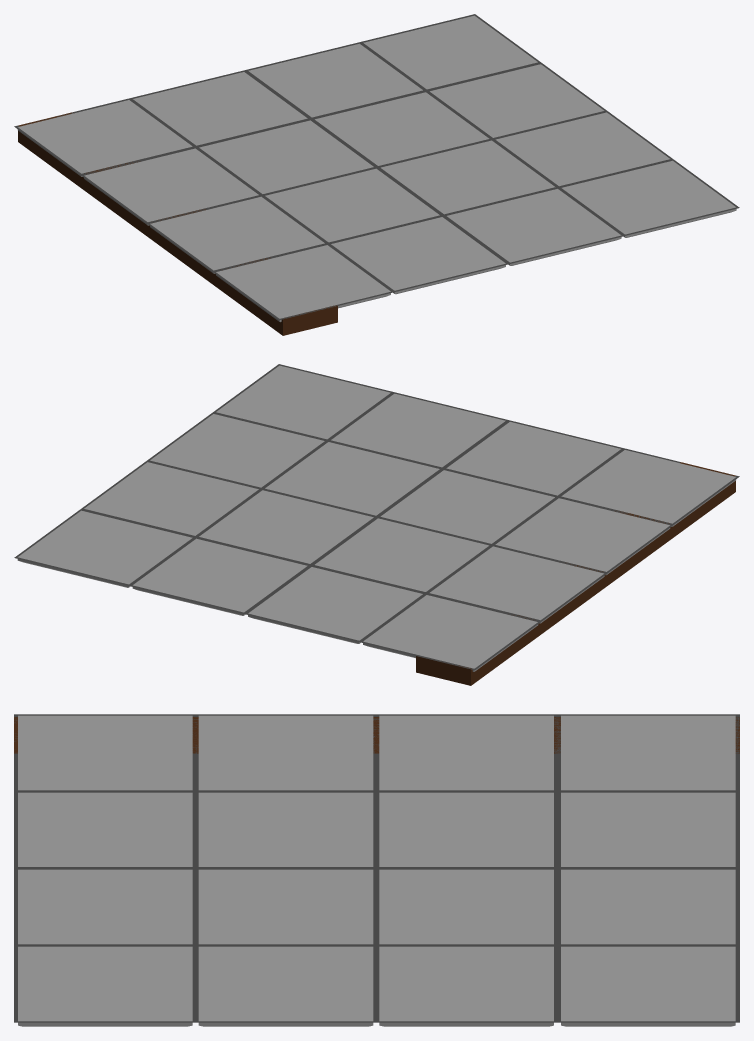
File: StoneTilesCeilling.fbx
3 views of the same model, one above another, from view 1: azimuth 30°, elevation 25°; view 2: azimuth 150°, elevation 25°; view 3: azimuth 270°, elevation 25° (orthographic). The views are drawn at different scales.
Parts seen in each view (by area): view 1: Plane.023, Cube.438, Cube.430, Cube.435, Cube.427, Cube.428, Cube.425, Cube.426, Cube.440, Cube.429, Cube.433, Cube.431 (+6 smaller); view 2: Plane.023, Cube.440, Cube.433, Cube.432, Cube.425, Cube.427, Cube.426, Cube.428, Cube.438, Cube.439, Cube.436, Cube.431 (+6 smaller); view 3: Plane.023, Cube.436, Cube.435, Cube.434, Cube.433, Cube.437, Cube.428, Cube.440, Cube.439, Cube.438, Cube.427, Cube.426 (+6 smaller).
Boxes of the visible parts, left/top/right/bottom form: Plane.023: left=14, top=14, right=739, bottom=320; Cube.438: left=447, top=189, right=621, bottom=265; Cube.430: left=331, top=217, right=505, bottom=294; Cube.435: left=562, top=160, right=736, bottom=237; Cube.427: left=216, top=245, right=390, bottom=322; Cube.428: left=150, top=196, right=324, bottom=273; Cube.425: left=17, top=100, right=192, bottom=176; Cube.426: left=84, top=148, right=258, bottom=225; Cube.440: left=248, top=43, right=422, bottom=117; Cube.429: left=265, top=168, right=439, bottom=242; Cube.433: left=363, top=15, right=537, bottom=89; Cube.431: left=199, top=120, right=373, bottom=193; Plane.023: left=14, top=364, right=739, bottom=670; Cube.440: left=132, top=538, right=307, bottom=615; Cube.433: left=17, top=510, right=192, bottom=587; Cube.432: left=248, top=567, right=422, bottom=643; Cube.425: left=363, top=595, right=538, bottom=671; Cube.427: left=561, top=450, right=736, bottom=526; Cube.426: left=430, top=546, right=604, bottom=623; Cube.428: left=495, top=498, right=670, bottom=575; Cube.438: left=331, top=393, right=505, bottom=467; Cube.439: left=199, top=490, right=373, bottom=563; Cube.436: left=150, top=414, right=324, bottom=487; Cube.431: left=315, top=518, right=488, bottom=591; Plane.023: left=14, top=714, right=739, bottom=1022; Cube.436: left=198, top=946, right=373, bottom=1026; Cube.435: left=18, top=946, right=192, bottom=1026; Cube.434: left=379, top=946, right=553, bottom=1026; Cube.433: left=561, top=946, right=735, bottom=1026; Cube.437: left=198, top=869, right=373, bottom=944; Cube.428: left=198, top=715, right=373, bottom=790; Cube.440: left=561, top=869, right=735, bottom=944; Cube.439: left=379, top=869, right=553, bottom=944; Cube.438: left=18, top=869, right=192, bottom=944; Cube.427: left=18, top=715, right=192, bottom=790; Cube.426: left=379, top=715, right=553, bottom=790.
Size of the model in its own units: 844 by 28.92 by 840.
